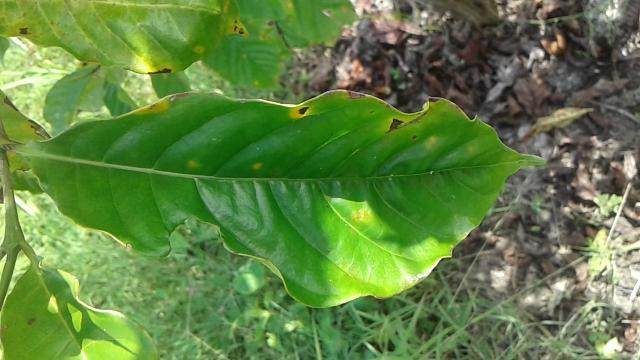rust_level_2: (15, 90, 542, 304)
